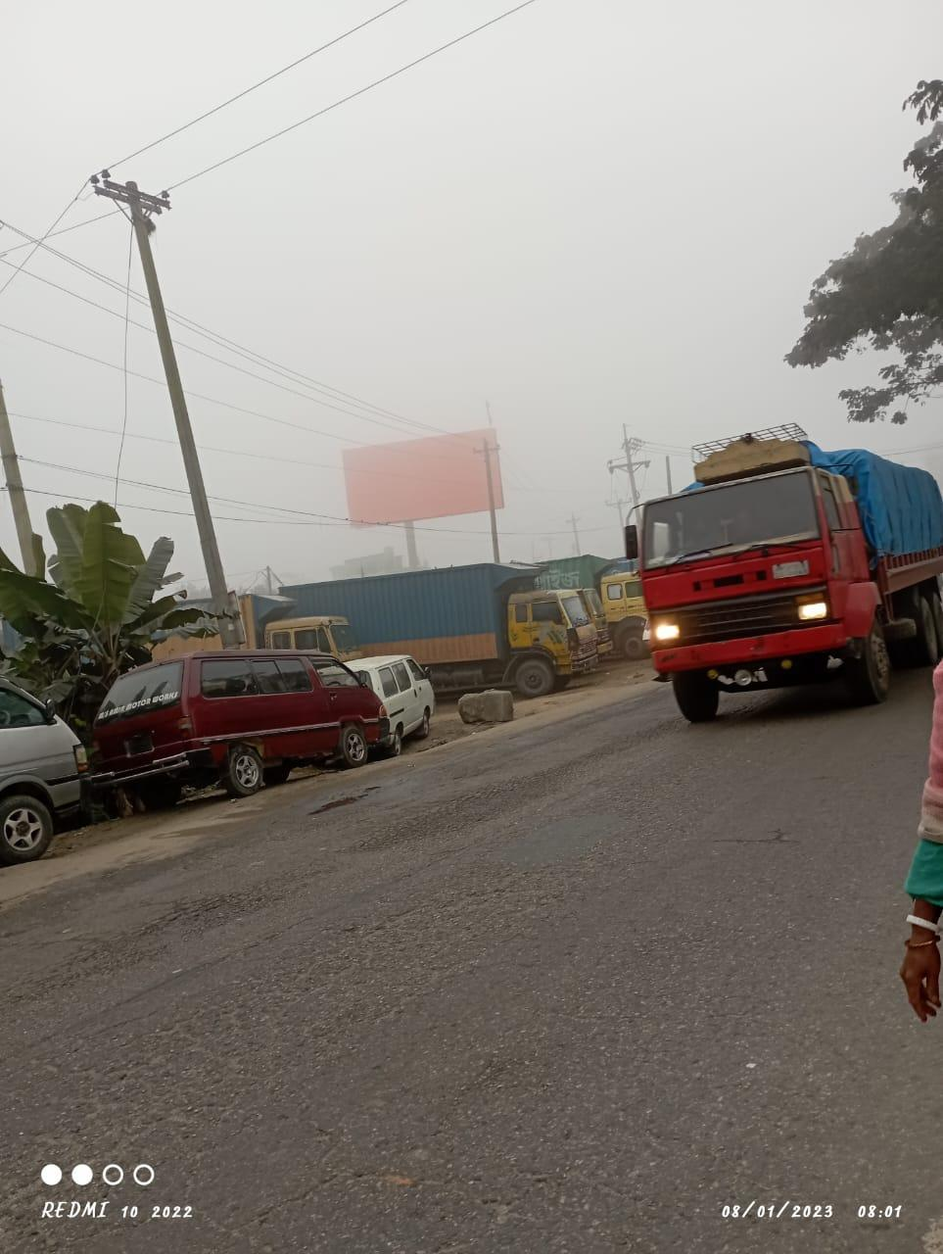Car: (100, 640, 397, 776), (5, 653, 104, 879)
Truck: (621, 435, 941, 674), (287, 561, 603, 690)
